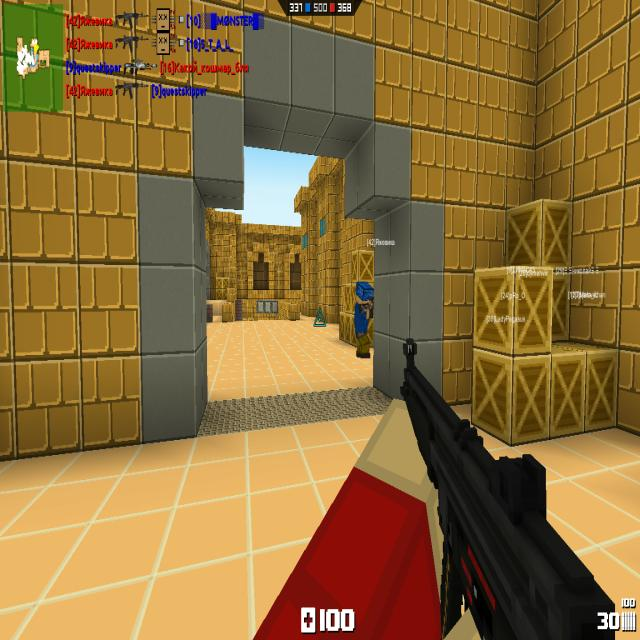enemy: (354, 278, 374, 358)
